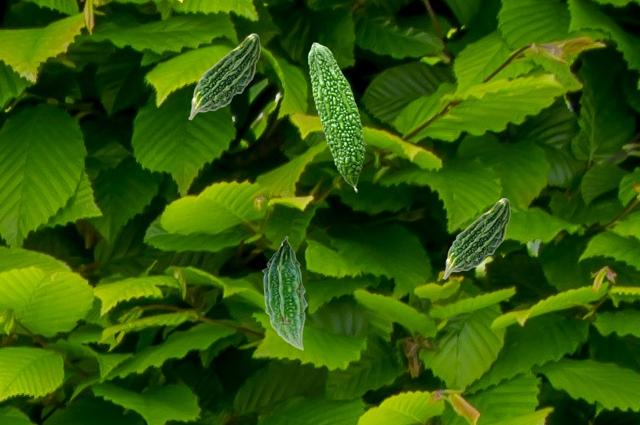ampalaya: (307, 42, 367, 193), (188, 33, 261, 120), (442, 197, 511, 279), (261, 235, 307, 350)
